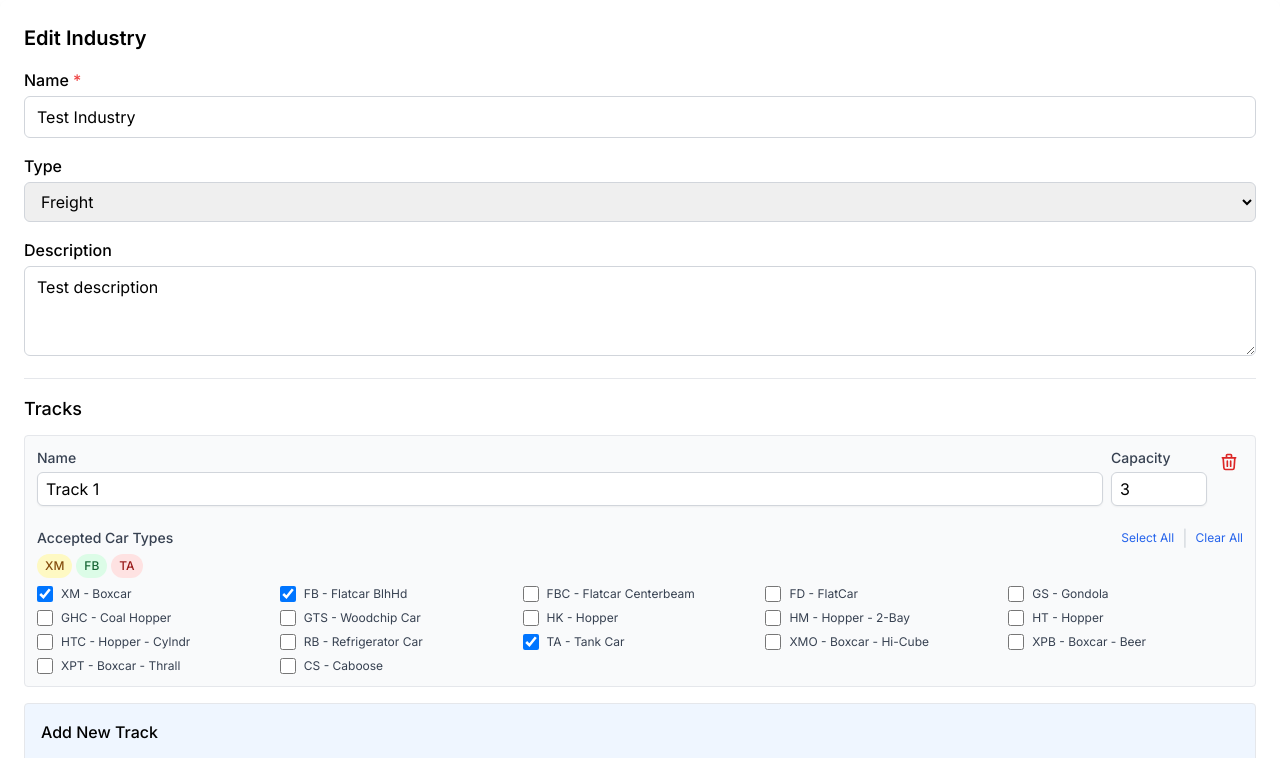
Test case: EditIndustryForm › allows removing a track
# Find and click the remove button
What coordinates should you click on to do the following:
click the button with test id "remove-track-0"
I would click on:
 (1229, 462)
Its box is [1215,448,1243,476].
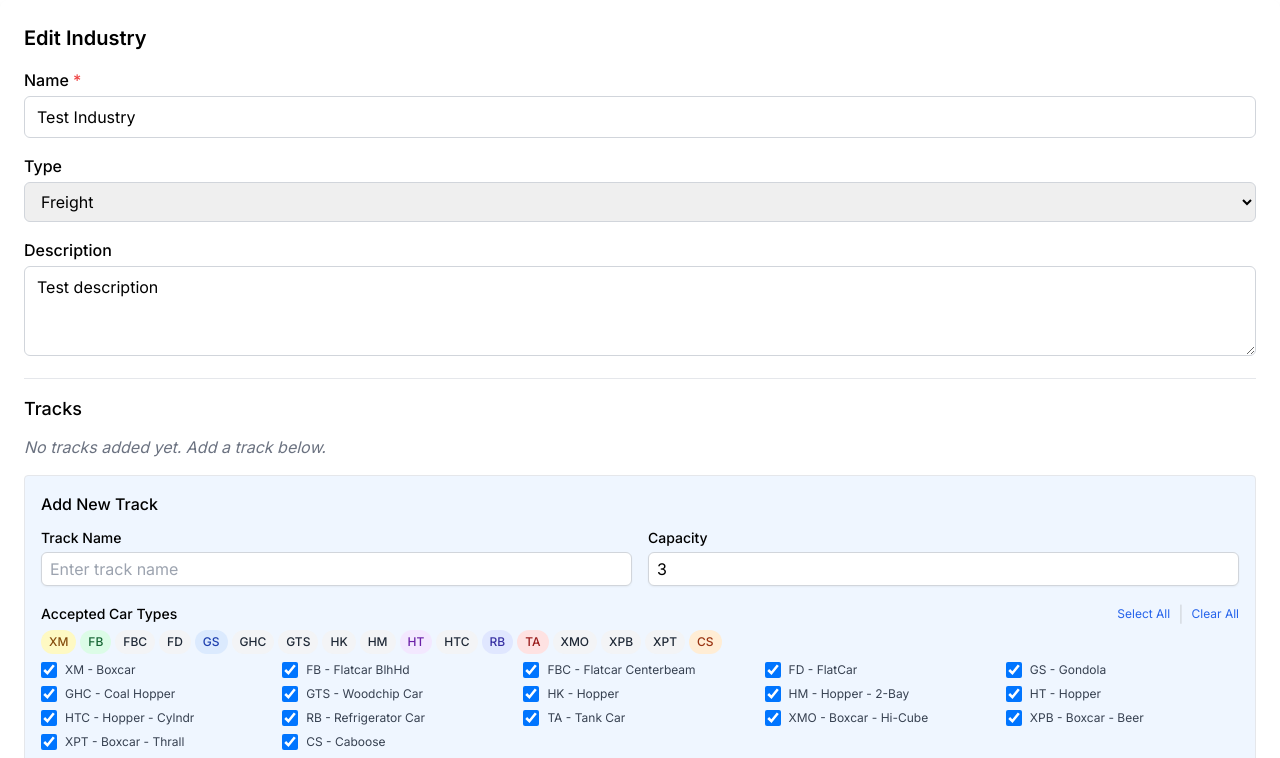
expect the label with test id "track-name-0" is gone: met
expect the text "No tracks added yet. Add a track below." is shown: met, box [24,437,326,457]
